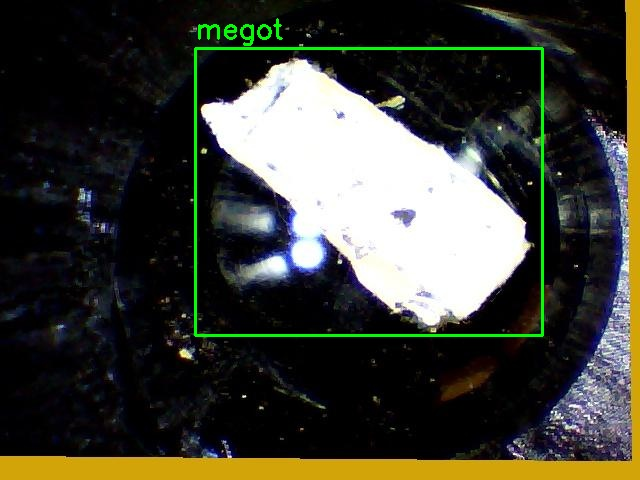megot: (195, 48, 542, 335)
